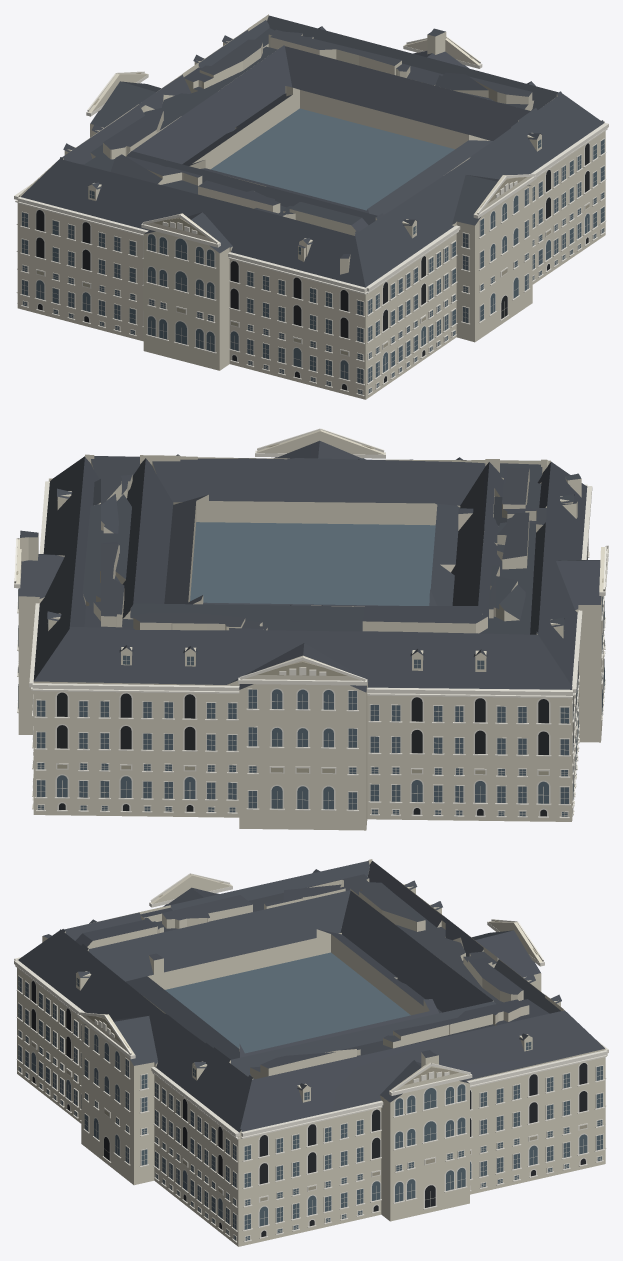
Rendered from scheepvaartmuseum.glb.
3 views of the same model, one above another, from view 1: azimuth 30°, elevation 25°; view 2: azimuth 150°, elevation 25°; view 3: azimuth 270°, elevation 25° (orthographic). The views are drawn at different scales.
Visible parts, largest first — view 1: scheepvaartmuseum; view 2: scheepvaartmuseum; view 3: scheepvaartmuseum.
Part boxes in pixels (x1,y1,x2,y2): scheepvaartmuseum: (14, 14, 608, 399); scheepvaartmuseum: (14, 428, 608, 830); scheepvaartmuseum: (14, 859, 608, 1246).
Bounding box in the file's own units: 84.88 × 23.8 × 82.6.
